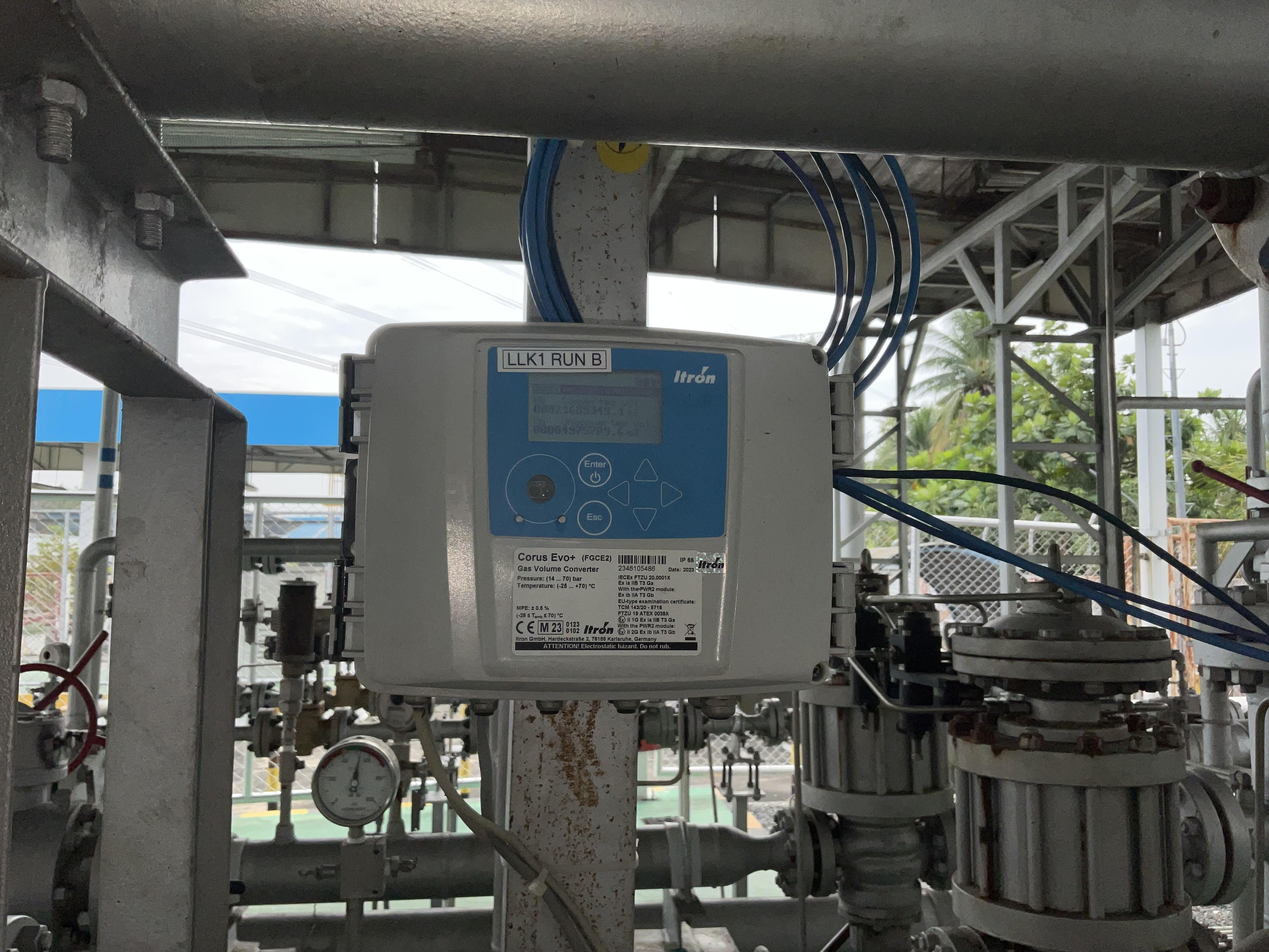digital_screen: (529, 370, 662, 442)
